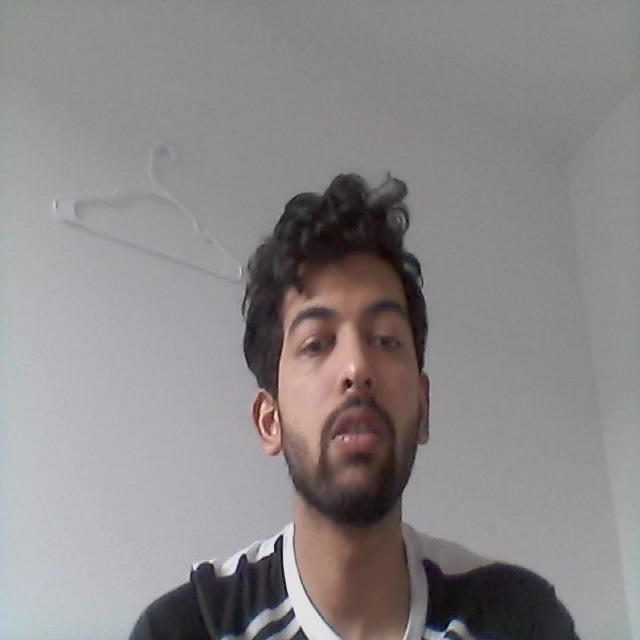nocap: (221, 165, 451, 388)
